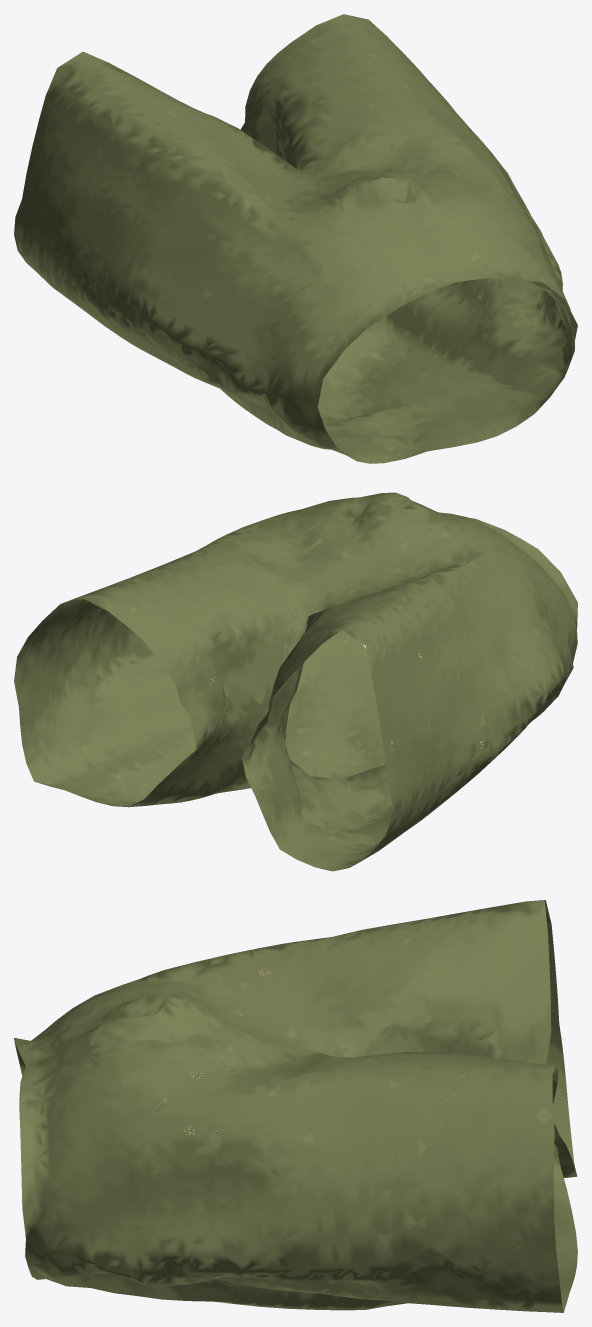
Rendered from shorts.obj.
The picture shows the model from 3 angles, top to bottom: view 1: azimuth 30°, elevation 25°; view 2: azimuth 150°, elevation 25°; view 3: azimuth 270°, elevation 25°; orthographic projection. The views are drawn at different scales.
Bounding box in the file's own units: 0.4412 × 0.2954 × 0.4857.
1 material, 1 textured.
